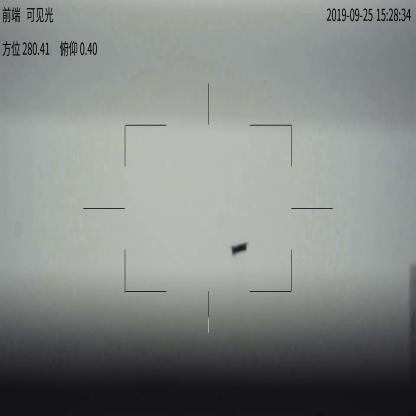uav: (231, 240, 247, 256)
